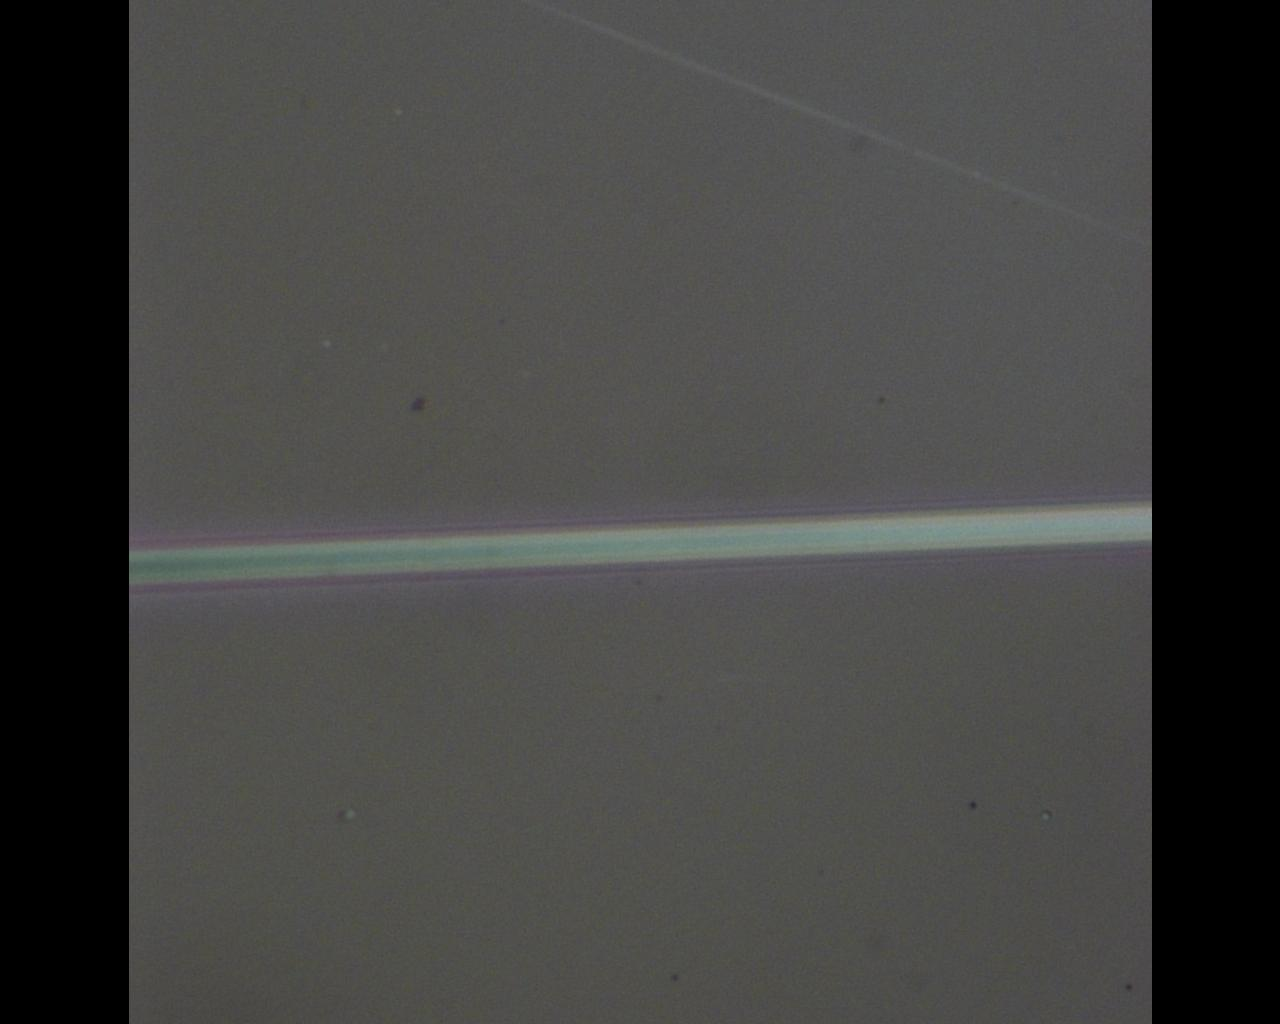fiber: (127, 496, 1151, 589)
